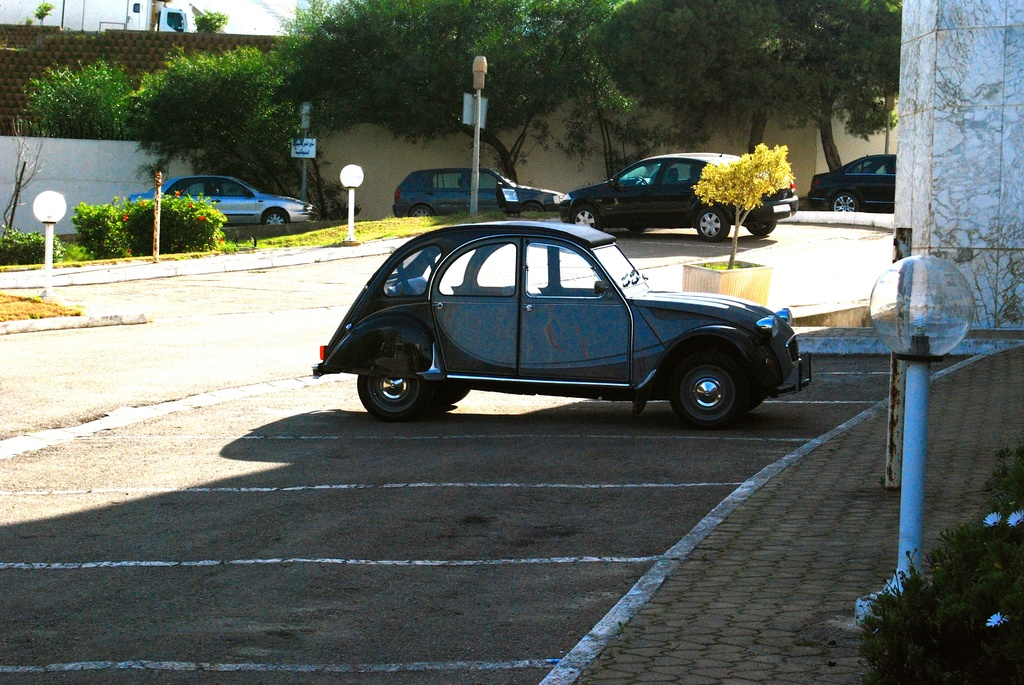Car: (309, 216, 817, 431), (558, 147, 797, 237), (131, 172, 322, 223), (393, 168, 565, 207), (806, 152, 897, 213)
